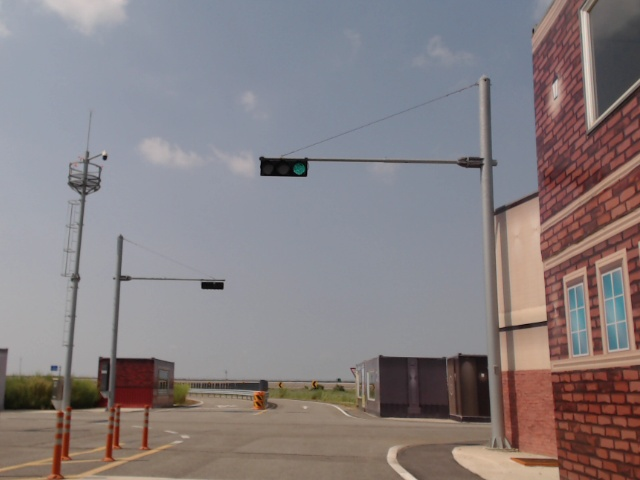green_3: (261, 158, 308, 177)
